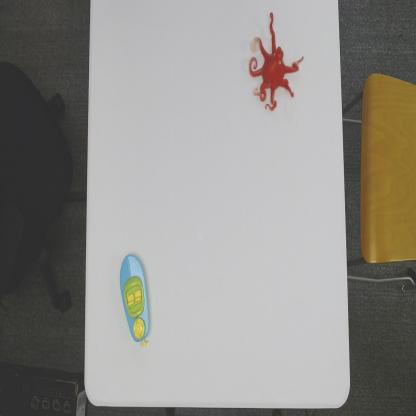Boat: (118, 251, 152, 350)
Octopus: (248, 11, 305, 114)
